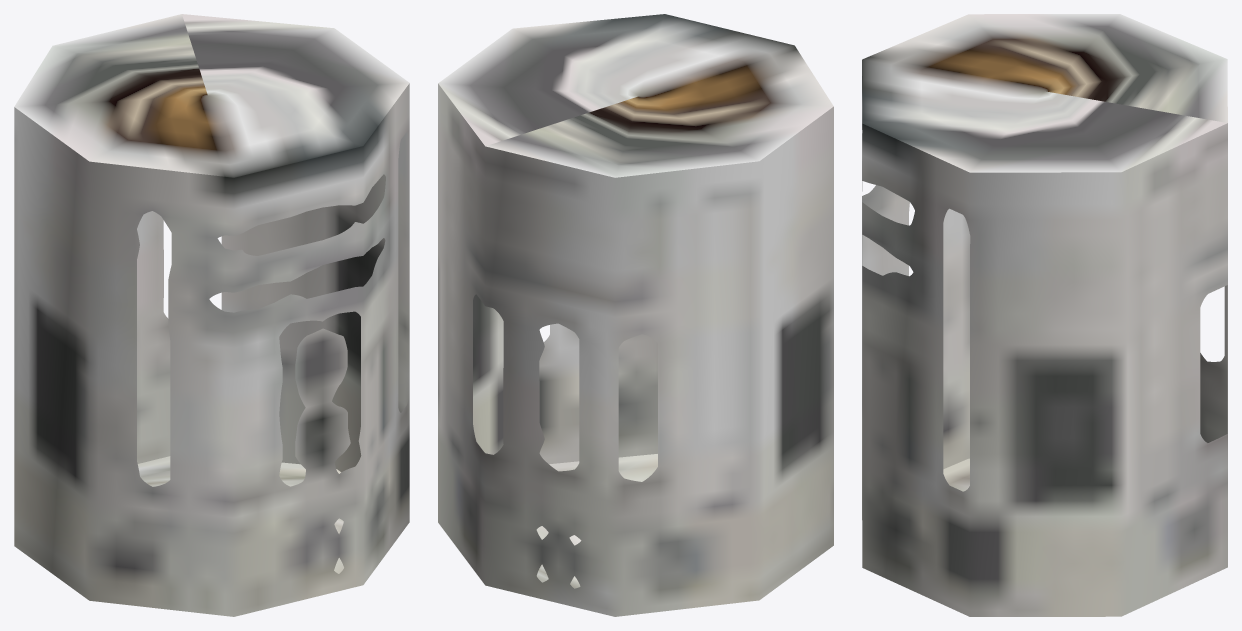
File: poi_r4_torso_l3.fbx
The picture shows the model from 3 angles, left to right: view 1: azimuth 30°, elevation 25°; view 2: azimuth 150°, elevation 25°; view 3: azimuth 270°, elevation 25°; orthographic projection.
Parts seen in each view (by area): view 1: mesh_node; view 2: mesh_node; view 3: mesh_node.
Part boxes in pixels (bbox=[...]): mesh_node: bbox=[14, 14, 409, 616]; mesh_node: bbox=[438, 14, 833, 616]; mesh_node: bbox=[862, 14, 1227, 616].
Size of the model in its own units: 0.4242 by 0.5543 by 0.4136.
Materials: 1 (1 with a texture image).
